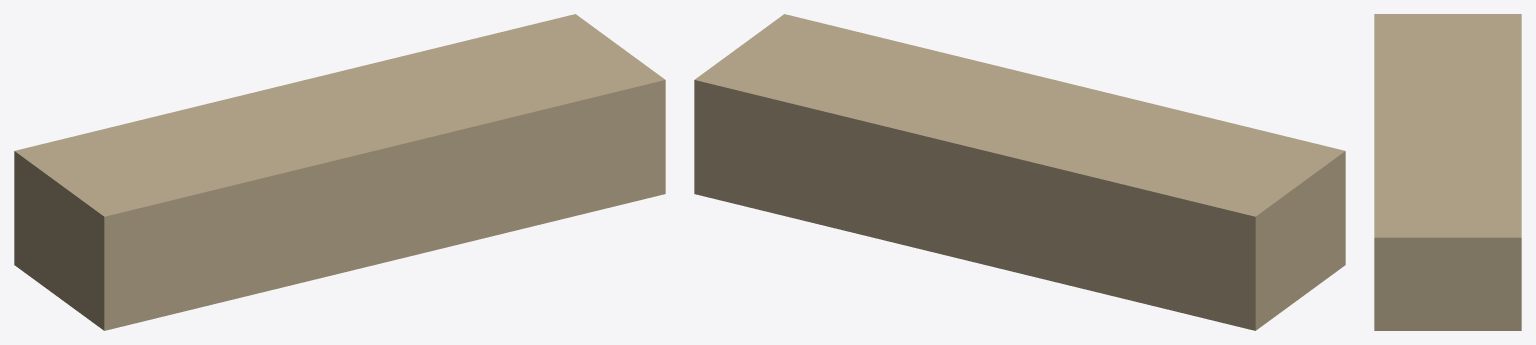
File: sandbags.glb
3 renders of one model, left to right at view 1: azimuth 30°, elevation 25°; view 2: azimuth 150°, elevation 25°; view 3: azimuth 270°, elevation 25°, orthographic. The views are drawn at different scales.
Visible parts, largest first — view 1: g3_bag, g5_bag, g4_bag, g0_bag, g1_bag, g2_bag; view 2: g0_bag, g2_bag, g1_bag, g3_bag, g5_bag, g4_bag; view 3: g5_bag, g2_bag, g4_bag, g1_bag, g3_bag, g0_bag.
Boxes of the visible parts, bbox=[...] form: g3_bag: bbox=[59, 130, 322, 330]; g5_bag: bbox=[416, 47, 665, 247]; g4_bag: bbox=[244, 89, 490, 288]; g0_bag: bbox=[14, 109, 276, 297]; g1_bag: bbox=[186, 56, 448, 140]; g2_bag: bbox=[359, 14, 619, 88]; g0_bag: bbox=[1037, 130, 1300, 330]; g2_bag: bbox=[694, 47, 957, 246]; g1_bag: bbox=[866, 100, 1123, 286]; g3_bag: bbox=[1083, 109, 1345, 297]; g5_bag: bbox=[740, 14, 1001, 99]; g4_bag: bbox=[918, 56, 1173, 139]; g5_bag: bbox=[1374, 151, 1447, 330]; g2_bag: bbox=[1448, 151, 1521, 330]; g4_bag: bbox=[1374, 82, 1447, 169]; g1_bag: bbox=[1448, 82, 1521, 169]; g3_bag: bbox=[1374, 14, 1447, 90]; g0_bag: bbox=[1448, 14, 1521, 87].
Size of the model in its own units: 1.8 by 0.35 by 0.5.
